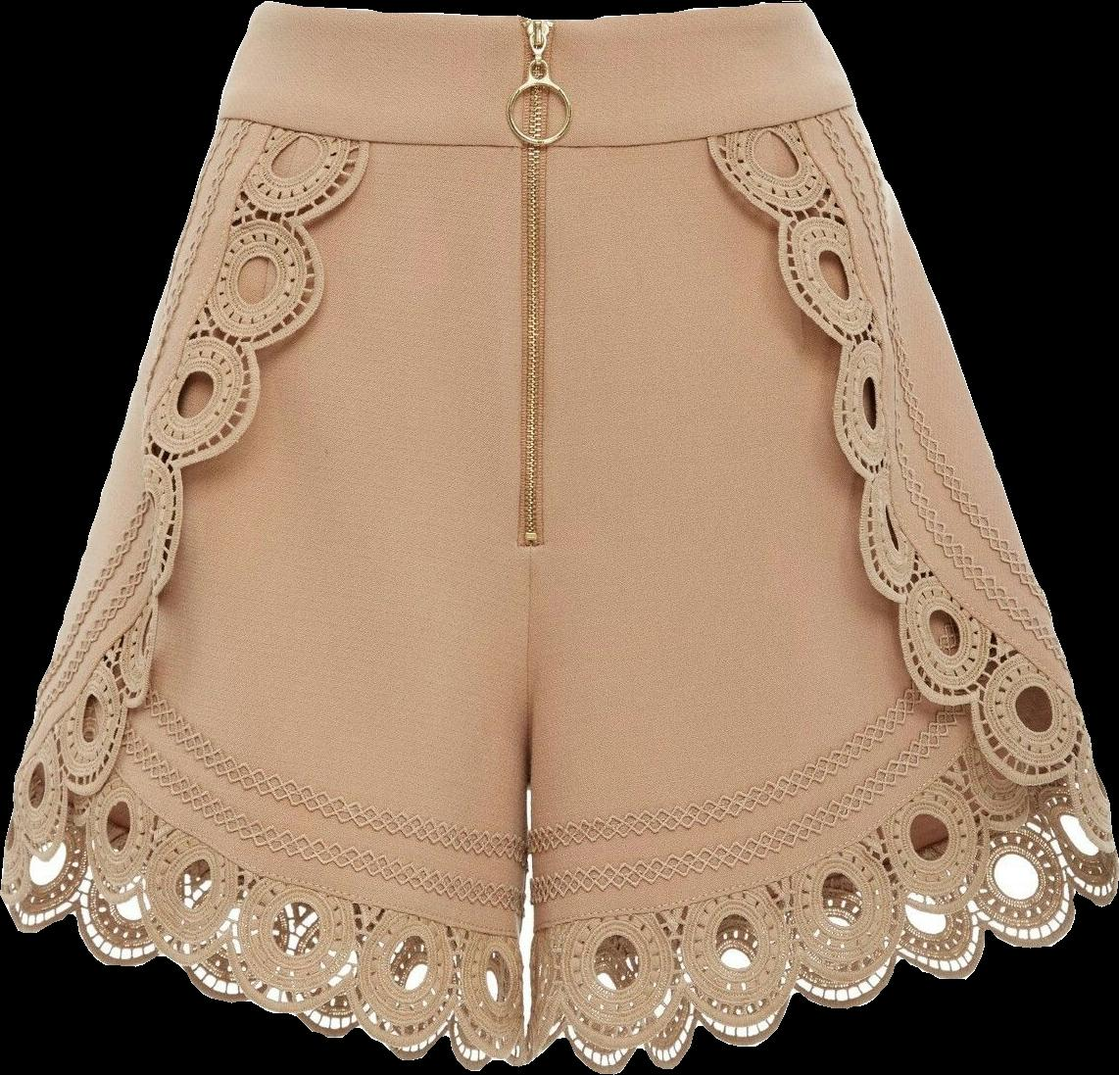Hemline: (707, 133, 1118, 863), (0, 136, 376, 900), (528, 864, 1118, 1073), (0, 886, 540, 1074)
Pantleg: (526, 2, 1118, 1073), (1, 3, 529, 1071)
Waistline: (216, 97, 862, 161), (257, 0, 802, 31)
